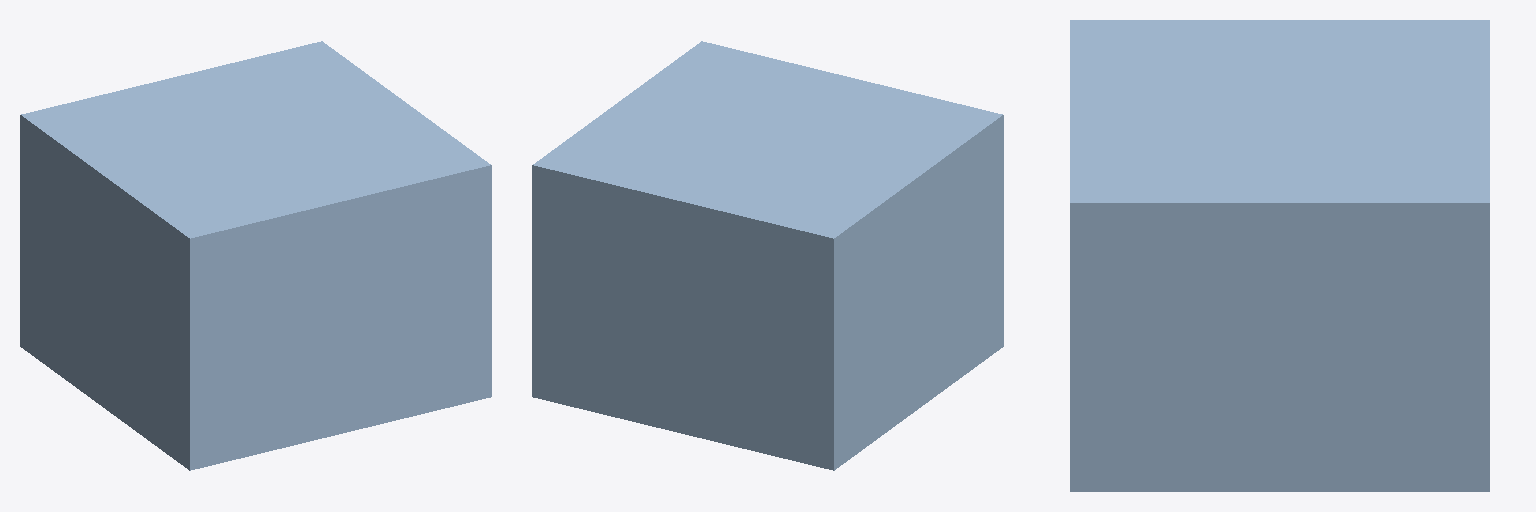
The robot description file, URDF, robot "box_70":
<?xml version='1.0' encoding='utf-8'?>
<robot name="box_70">
  <link name="baseLink">
    <inertial>
      <mass value="0.1" />
      <origin xyz="0 0 0" />
      <inertia ixx="0.002" ixy="0" ixz="0" iyy="0.002" iyz="0" izz="0.002" />
    </inertial>
    <visual name="visual_000">
      <origin rpy="0 0 0" xyz="0 0 0" />
      <geometry>
        <mesh filename="../../../../../../data/ds_as_data/carryany_filter_scale_noscale_keep169_20260513_plus_box_teacher_rollout_success155_bcleb5oi58000_final0p5_primitiveproj_solid80_clean_box_bin_barrel_ball/objects/motion_bank_box_70/box_70.obj" scale="1 1 1" />
      </geometry>
      <material name="mat">
        <color rgba="0.7 0.8 0.9 0.7" />
      </material>
    </visual>
    <collision name="collision_000">
      <origin rpy="0 0 0" xyz="0 0 0" />
      <geometry>
        <mesh filename="../../../../../../data/ds_as_data/carryany_filter_scale_noscale_keep169_20260513_plus_box_teacher_rollout_success155_bcleb5oi58000_final0p5_primitiveproj_solid80_clean_box_bin_barrel_ball/objects/motion_bank_box_70/box_70.obj" scale="1 1 1" />
      </geometry>
    </collision>
  </link>
</robot>

--- What the picture shows (computed from the rendered views, not written in the file) ---
The picture shows the robot from 3 angles, left to right: view 1: azimuth 30°, elevation 25°; view 2: azimuth 150°, elevation 25°; view 3: azimuth 270°, elevation 25°; orthographic projection.
Robot: box_70 — 1 links, 0 joints (none); root link baseLink; default pose: all joints at 0.
Visible links, largest first — view 1: baseLink; view 2: baseLink; view 3: baseLink.
Boxes of the visible links, x1,y1,x2,y2 form: baseLink: [20, 41, 491, 470]; baseLink: [532, 41, 1003, 470]; baseLink: [1070, 20, 1489, 491].
Size in the robot's own frame: 0.4874 by 0.474 by 0.3584 metres.
1 mesh visuals loaded from 1 distinct referenced files (1 OBJ).
